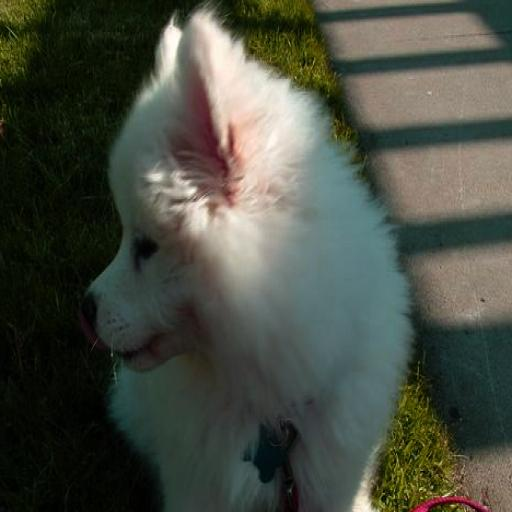dog_face: (84, 33, 240, 378)
